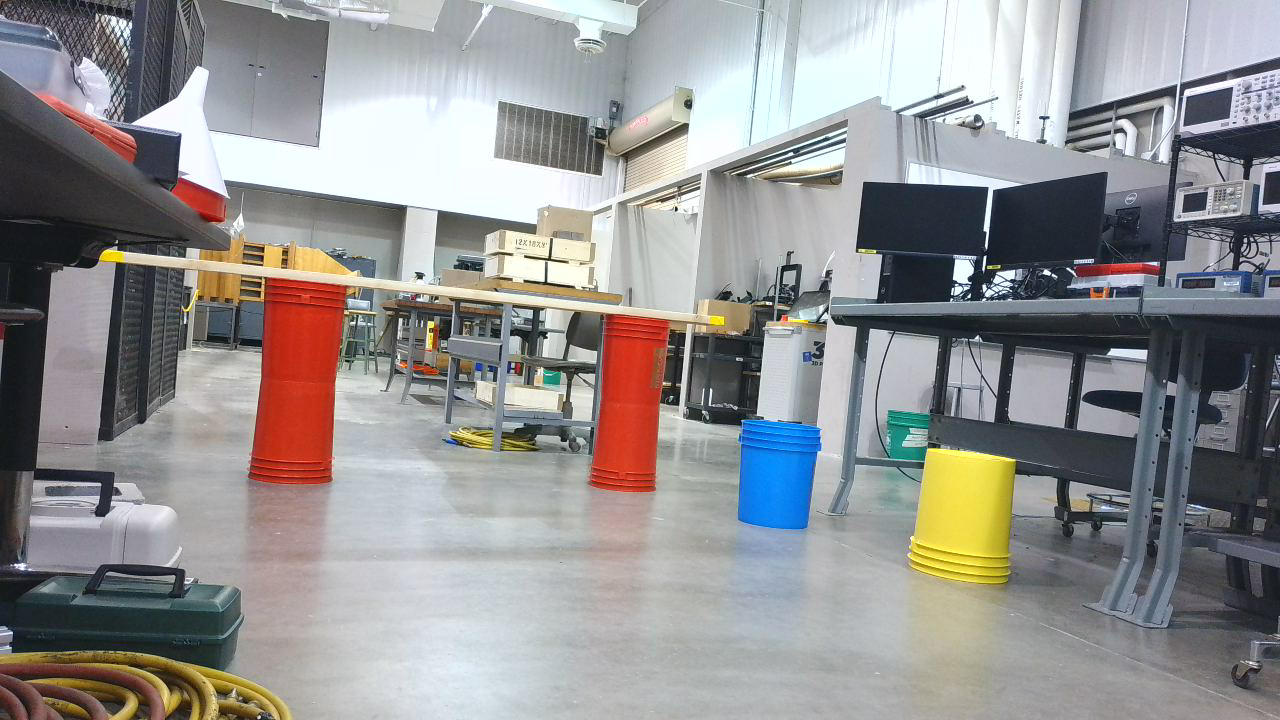blue_bucket: (738, 420, 832, 539)
red_bucket_arch: (245, 272, 680, 501)
yellow_bucket: (909, 448, 1026, 592)
